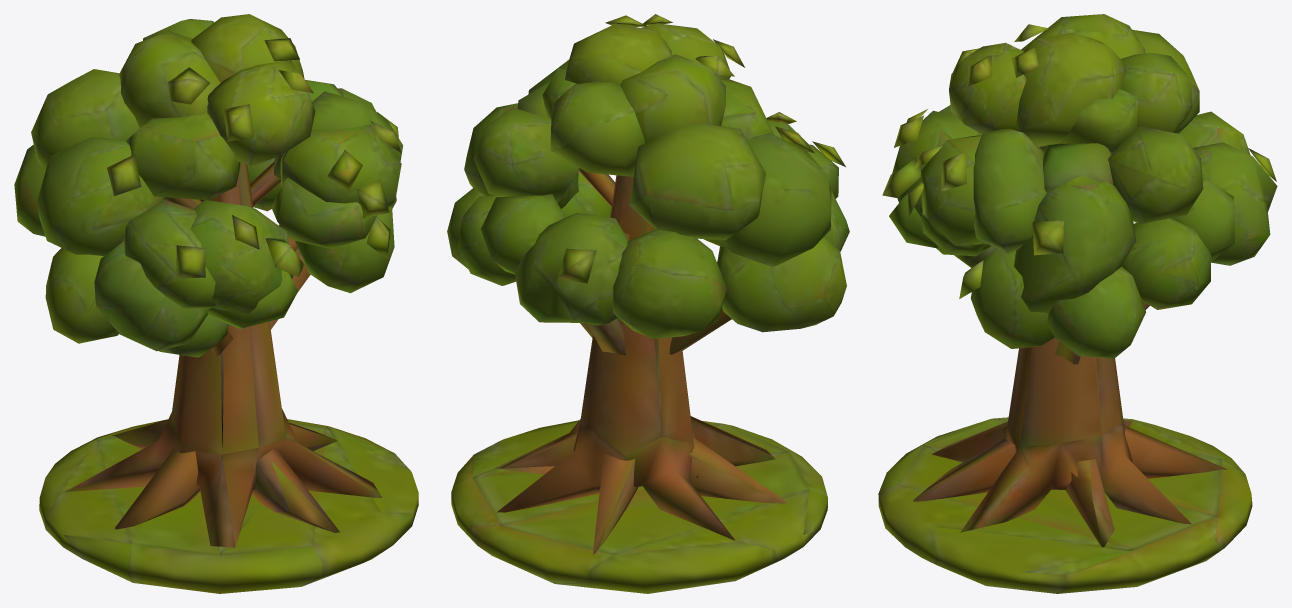
3 views of the same model, side by side, from view 1: azimuth 30°, elevation 25°; view 2: azimuth 150°, elevation 25°; view 3: azimuth 270°, elevation 25° (orthographic).
Visible parts, largest first — view 1: geometry_0; view 2: geometry_0; view 3: geometry_0.
Part boxes in pixels (x1=…): geometry_0: x1=14, y1=14, x2=418, y2=593; geometry_0: x1=447, y1=14, x2=849, y2=593; geometry_0: x1=878, y1=14, x2=1277, y2=593.
Bounding box in the file's own units: 0.7656 × 1 × 0.7385.
1 material, 1 textured.
